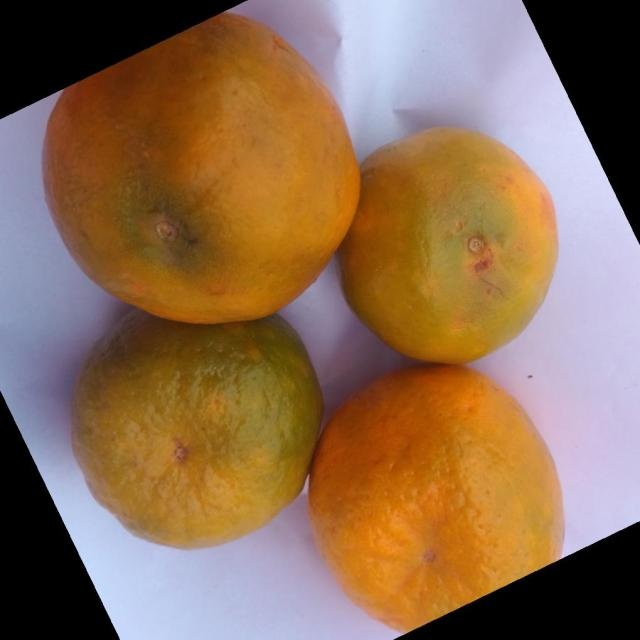agrume: (40, 11, 362, 324), (307, 362, 565, 634), (70, 307, 323, 549), (337, 124, 559, 365)
